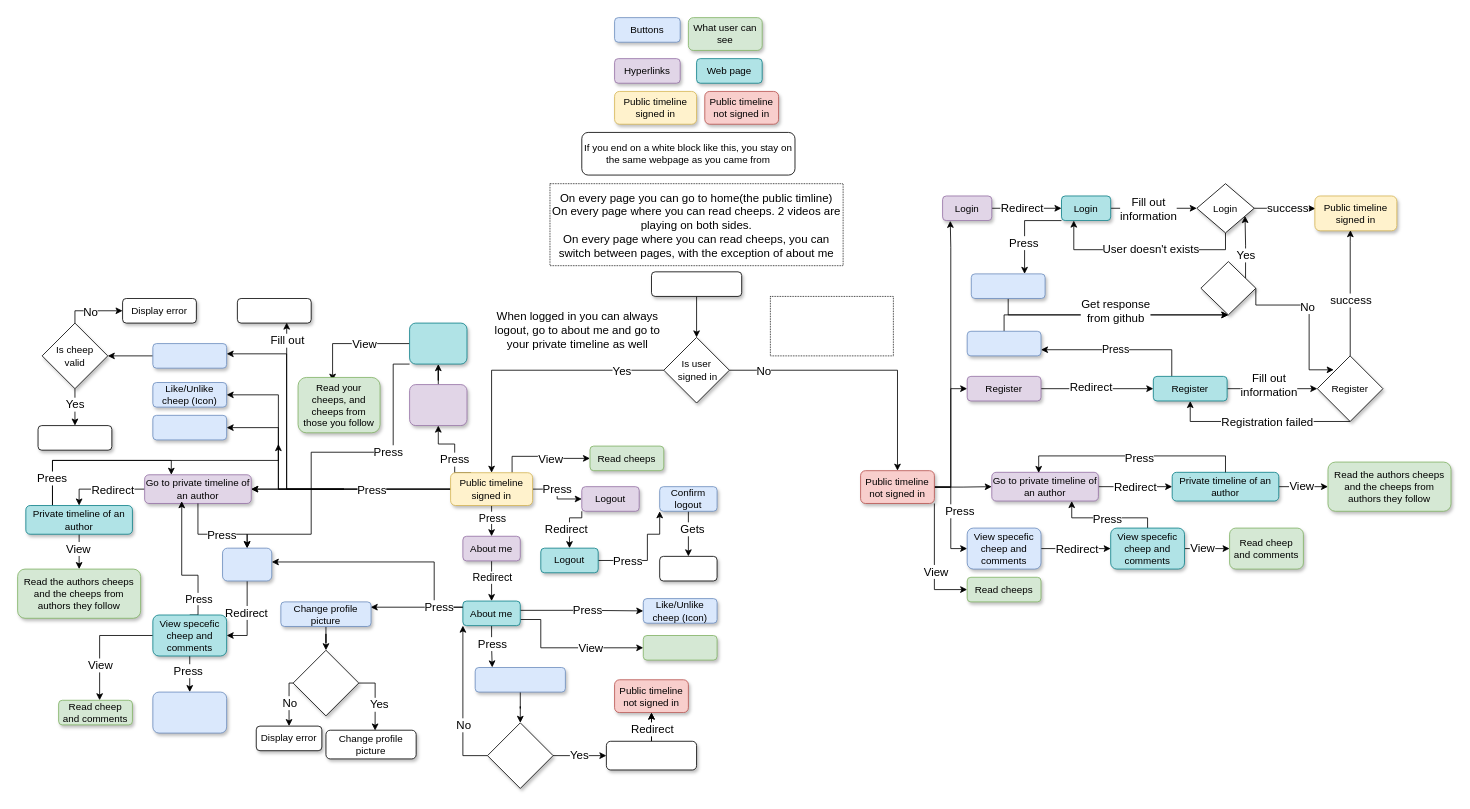
Image size: 1470x809. Some labels were removed from this diagram. Here are the shapes that lost their labels. From the top down, the centre of each, then its label:
the point at 697,285: Enter website
the point at 1008,287: Login with github
the point at 1229,289: User exsits
the point at 274,311: Cheep field
the point at 831,326: When not logged in, you can always go to register and login as well
the point at 190,356: Post cheep
the point at 438,344: Logged in authors timeline
the point at 1004,344: Register with github
the point at 438,405: Private timeline(my timeline)
the point at 75,438: Cheep gets posted
the point at 190,428: Follow/Unfollow
the point at 247,565: Comments (Icon)
the point at 689,569: Logged out
the point at 680,648: See user info
the point at 326,684: Is image valid
the point at 520,680: Forget me
the point at 190,713: Comment
the point at 520,756: Confirm
the point at 652,756: Delete user and logout
